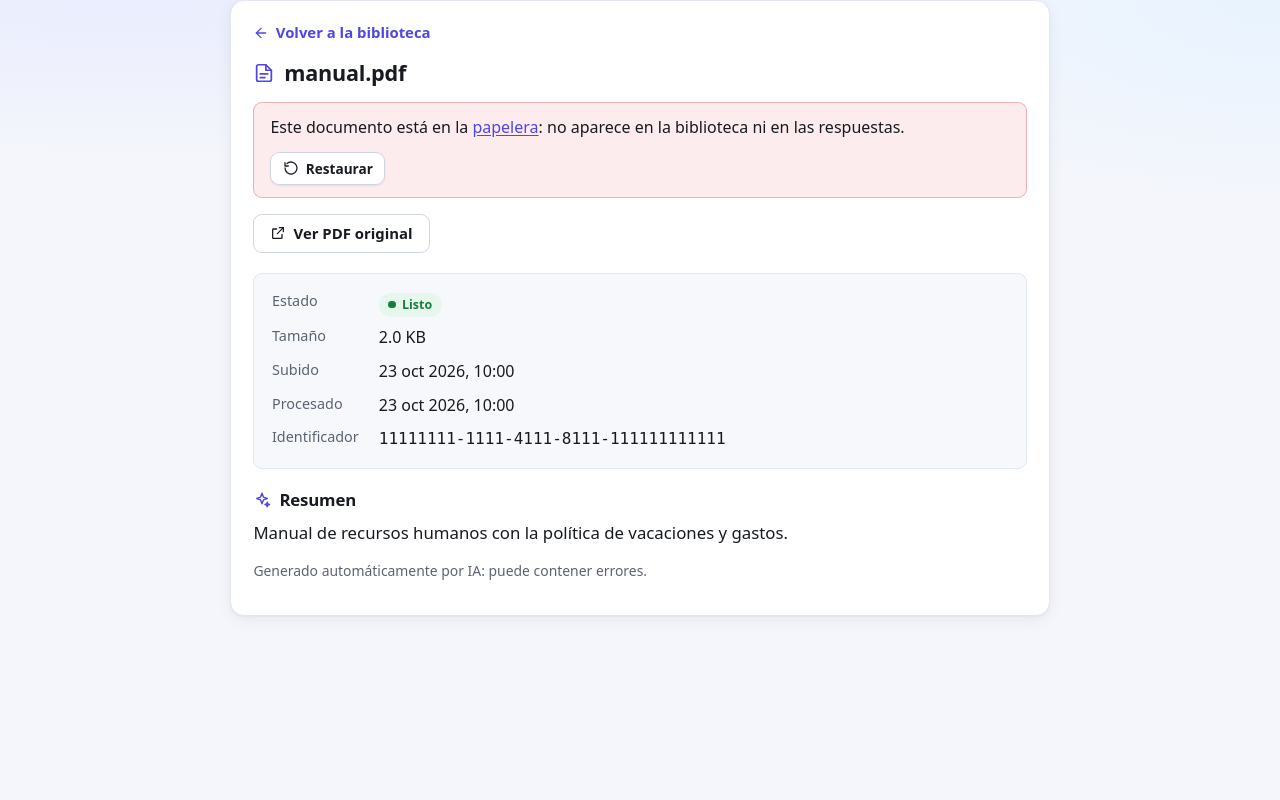
it: DocumentPage › avisa si está en la papelera y permite restaurarlo
Expected: the text "está en la" is shown, [270,116,472,138]
Expected: the link "Preguntar sobre este documento" is not shown
Click the button "Restaurar". click: (328, 168)
box: [270,152,385,185]
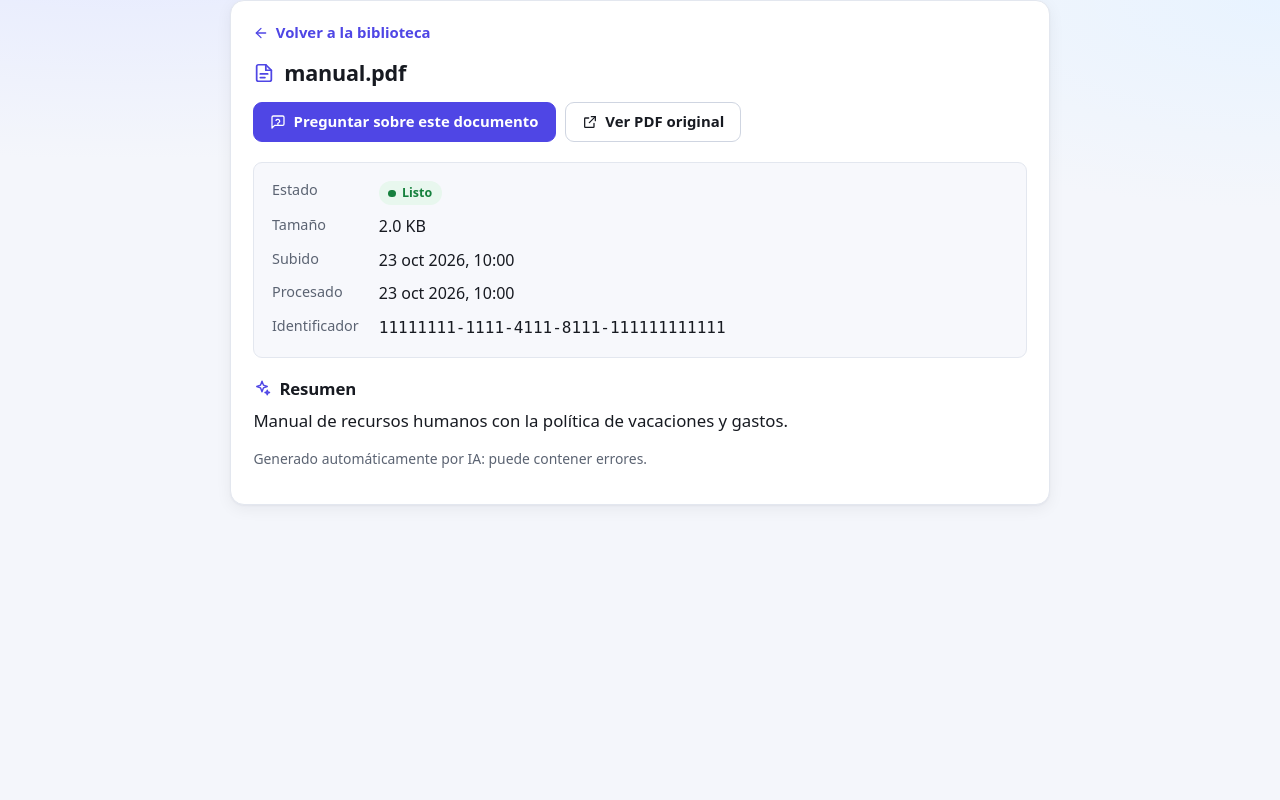
Result: the link "Preguntar sobre este documento" is shown at [253,102,556,142]
Result: the text "está en la" is gone
